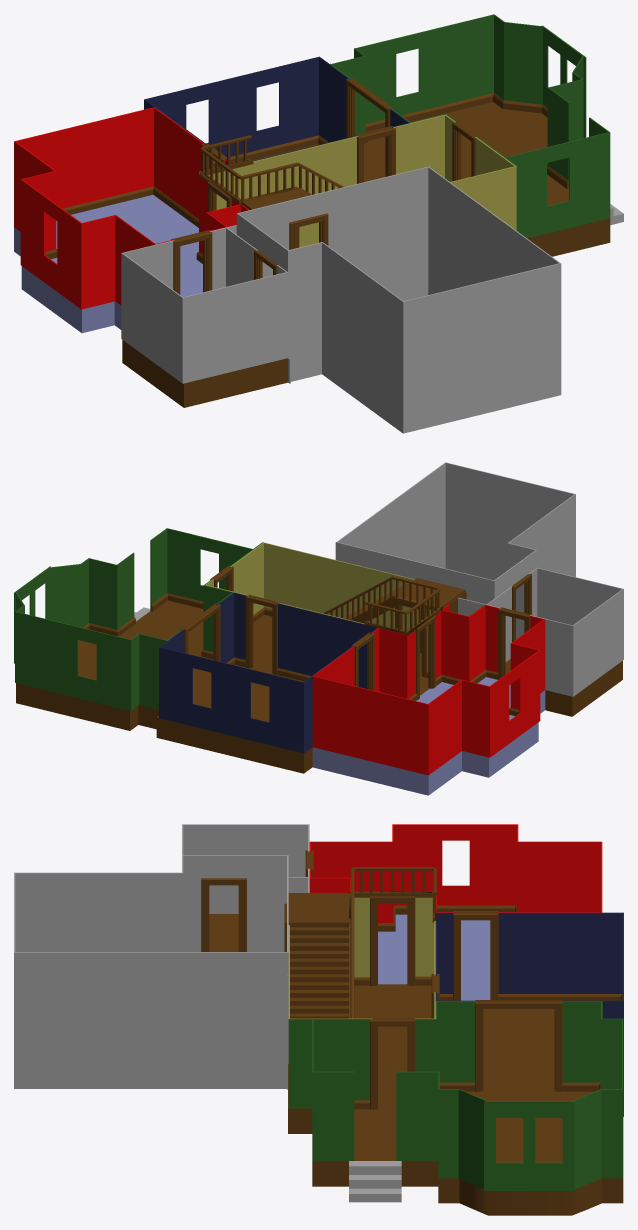
The model's file is house_downstairs_08.fbx.
3 views of the same model, one above another, from view 1: azimuth 30°, elevation 25°; view 2: azimuth 150°, elevation 25°; view 3: azimuth 270°, elevation 25° (orthographic). The views are drawn at different scales.
Parts seen in each view (by area): view 1: front1; view 2: front1; view 3: front1.
Boxes of the visible parts, <box> form: front1: <box>14,14,623,433</box>; front1: <box>14,462,623,795</box>; front1: <box>14,824,623,1215</box>.
Bounding box in the file's own units: 23.46 × 5.61 × 21.78.
